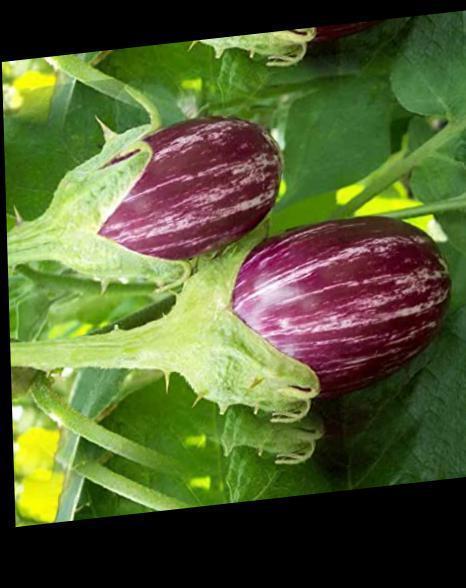eggplant: (137, 190, 454, 444), (3, 124, 284, 302)
